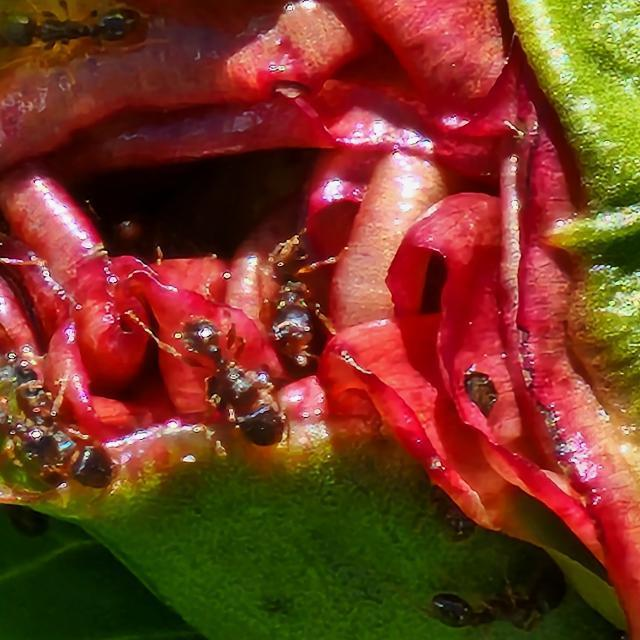Tetramorium: (160, 304, 306, 450), (250, 205, 344, 378), (0, 393, 146, 497), (410, 575, 574, 639)
